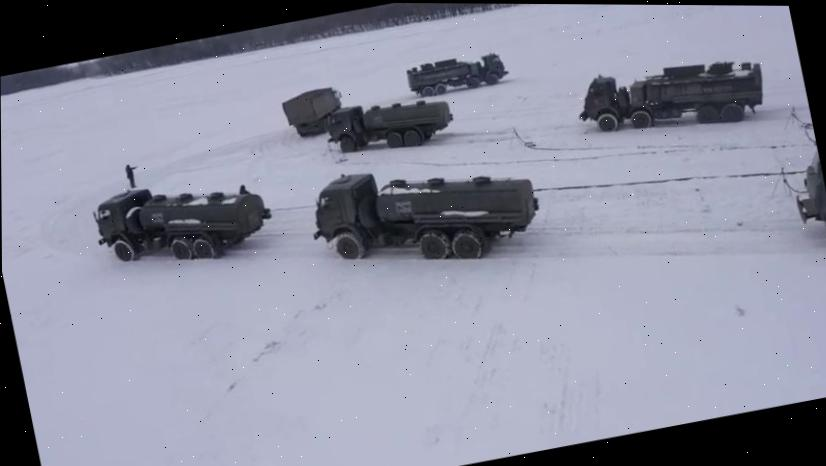person: (124, 162, 141, 189)
truck: (302, 138, 548, 289), (570, 42, 772, 152), (90, 165, 278, 280), (320, 85, 458, 162), (778, 136, 826, 262), (404, 47, 511, 101), (279, 83, 348, 140)
